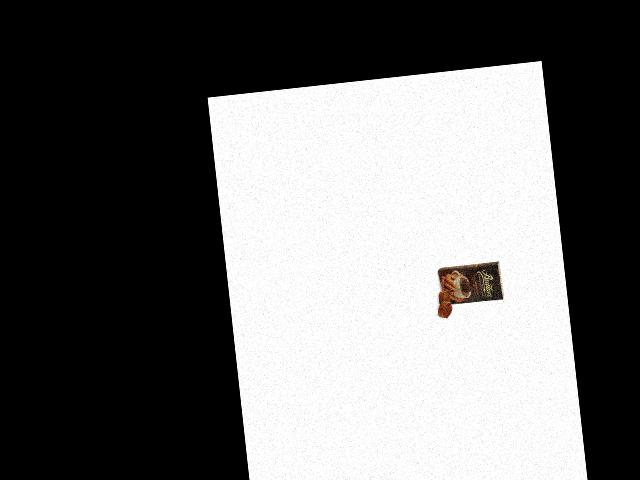chocolate: (435, 258, 506, 311)
